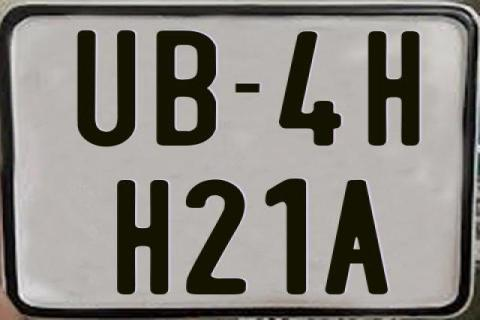0: (278, 29, 346, 147), (183, 179, 248, 295), (264, 177, 308, 297)
A: (324, 179, 390, 297)
B: (153, 28, 216, 144)
H: (114, 179, 170, 297), (366, 30, 419, 148)
U: (76, 30, 137, 146)
